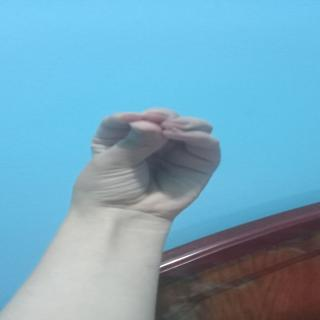HA: (87, 102, 219, 206)
